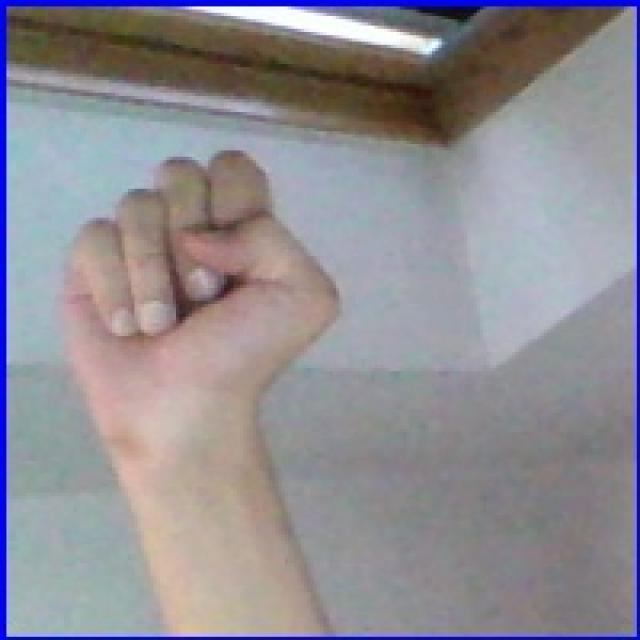Letra-S: (35, 136, 352, 507)
